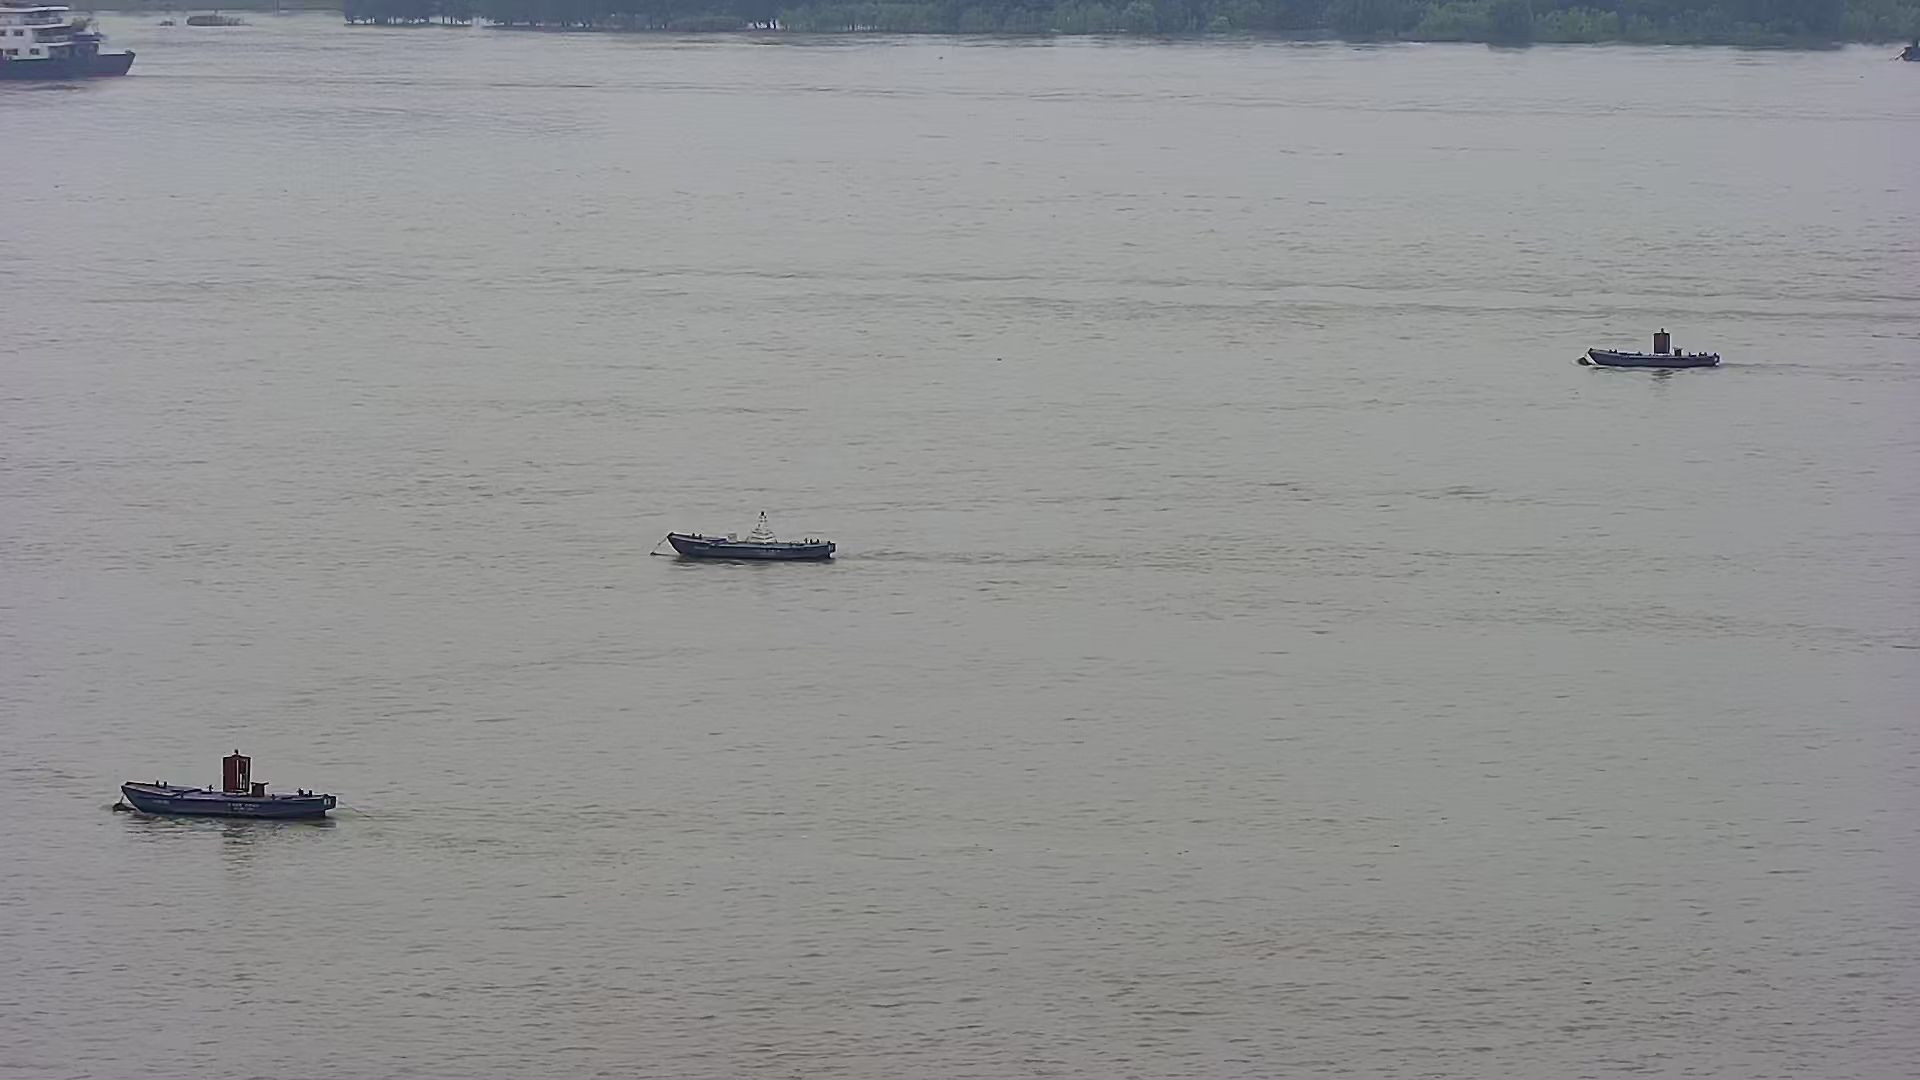boat: (112, 744, 342, 829), (641, 498, 856, 582), (1557, 313, 1737, 378)
ship: (1, 1, 142, 87)
